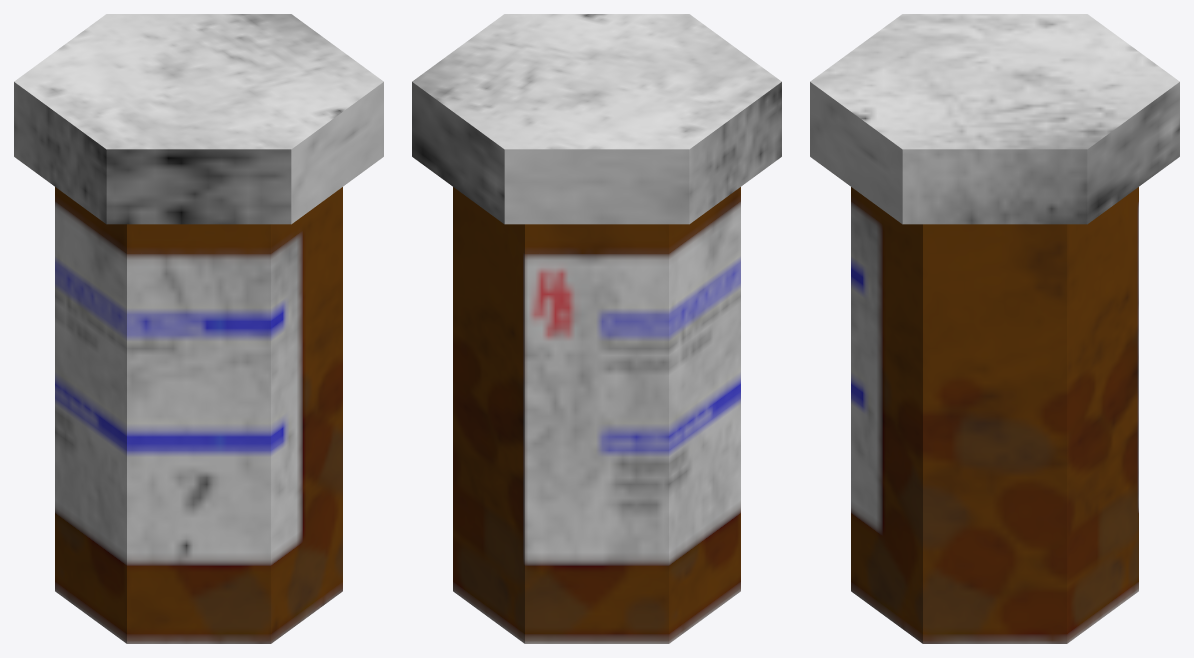
Rendered from PILLS.fbx.
3 views of the same model, side by side, from view 1: azimuth 30°, elevation 25°; view 2: azimuth 150°, elevation 25°; view 3: azimuth 270°, elevation 25° (orthographic).
Visible parts, largest first — view 1: Cylinder; view 2: Cylinder; view 3: Cylinder.
Boxes of the visible parts, x1,y1,x2,y2 form: Cylinder: [14, 14, 383, 643]; Cylinder: [412, 14, 781, 643]; Cylinder: [810, 14, 1179, 643].
Bounding box in the file's own units: 88.93 × 156 × 103.
